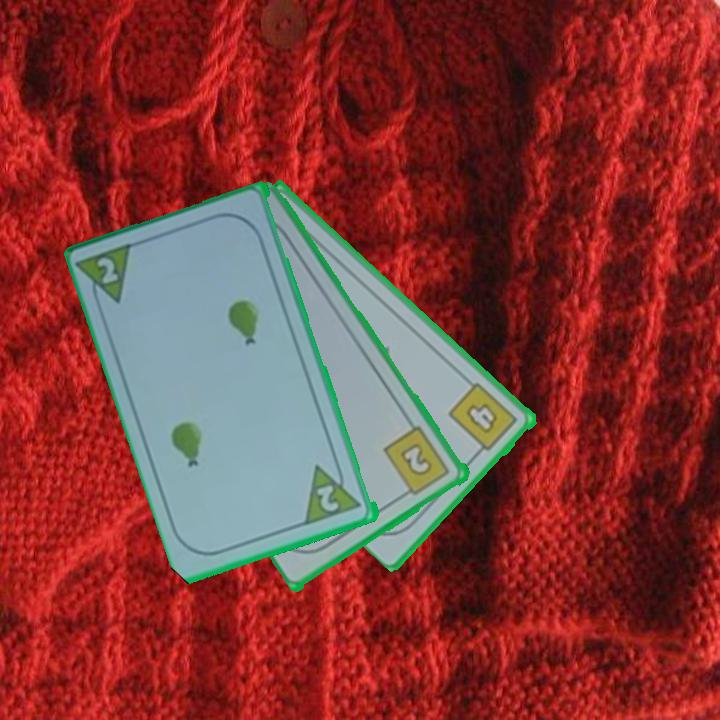2b: (380, 422, 453, 501)
2p: (75, 239, 139, 314), (313, 481, 343, 515)
4b: (445, 379, 522, 460)
